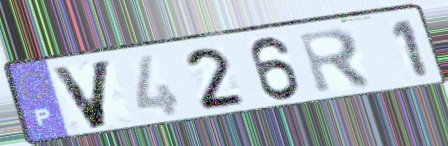1: (390, 18, 434, 79)
2: (183, 46, 250, 112)
4: (133, 53, 183, 119)
6: (247, 36, 302, 104)
R: (294, 26, 376, 97)
V: (47, 57, 115, 132)
